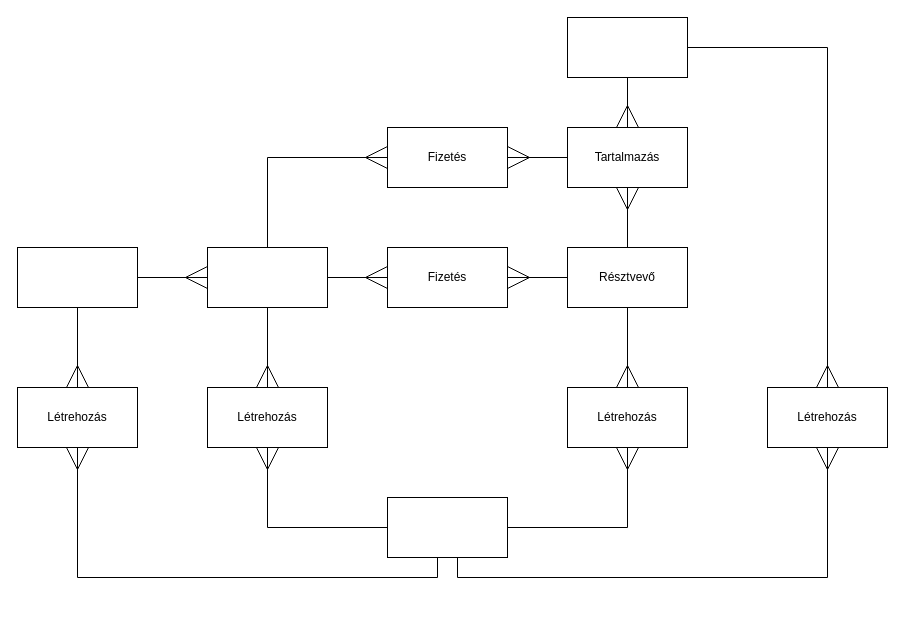
Some shapes in this 905 by 617 pixel diagram are drawn without their labels. Each missing label, with the box of its shape:
Csoport: (566, 16, 688, 78)
Felhasználó: (386, 496, 508, 558)
Nyugta: (16, 246, 138, 308)
Termék: (206, 246, 328, 308)
